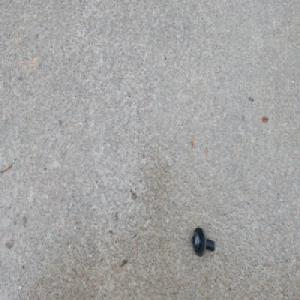BoltWasher: (189, 226, 213, 257)
